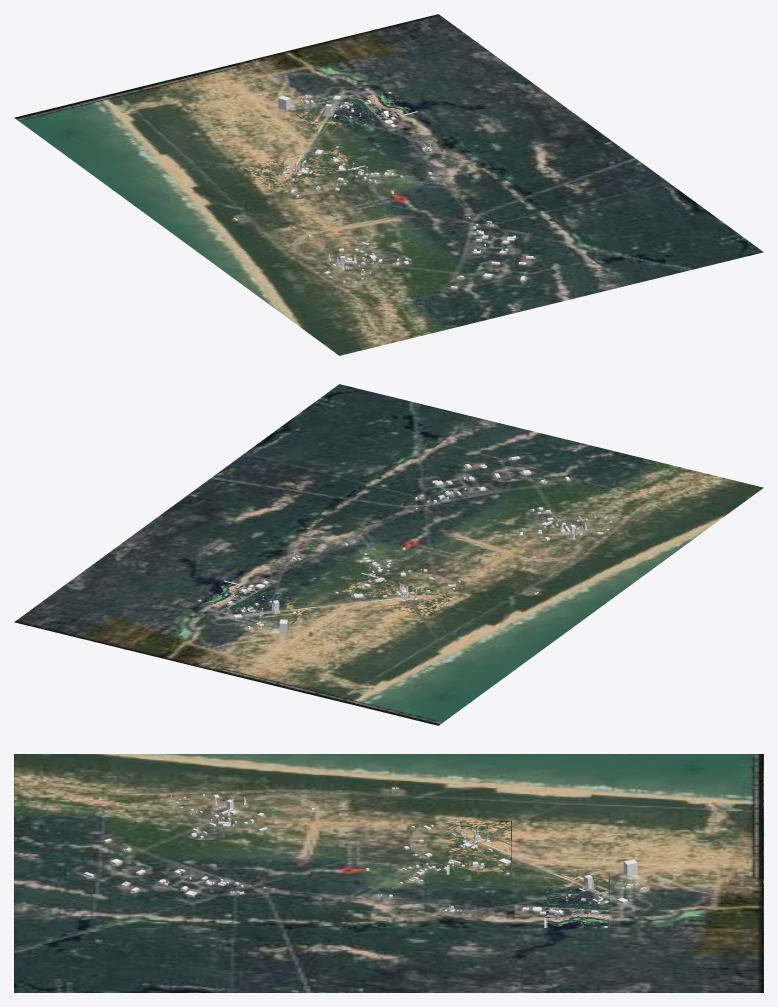
The model's file is launch.glb.
The picture shows the model from 3 angles, top to bottom: view 1: azimuth 30°, elevation 25°; view 2: azimuth 150°, elevation 25°; view 3: azimuth 270°, elevation 25°; orthographic projection. The views are drawn at different scales.
Visible parts, largest first — view 1: Plane001, Plane003, Plane007; view 2: Plane001, Plane003, Plane007; view 3: Plane001, Plane003, Plane007.
Part boxes in pixels (<box>): Plane001: <box>14,14,763,355</box>; Plane003: <box>242,145,365,189</box>; Plane007: <box>295,91,418,135</box>; Plane001: <box>14,384,763,725</box>; Plane003: <box>334,573,457,616</box>; Plane007: <box>196,580,319,624</box>; Plane001: <box>14,754,763,992</box>; Plane003: <box>446,820,511,874</box>; Plane007: <box>544,874,609,927</box>.
Size of the model in its own units: 3298 by 95.1 by 4379.
11 materials, 9 textured.
